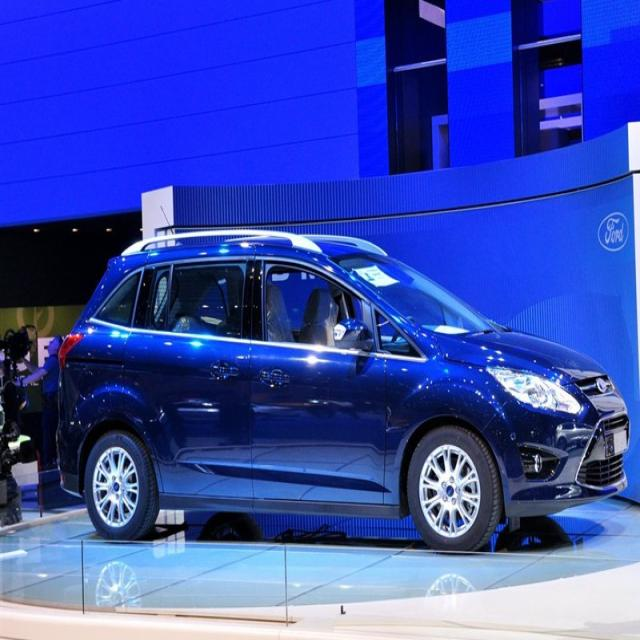back_right_side_light: (58, 330, 84, 372)
door: (122, 254, 258, 510)
front_bumper: (487, 389, 631, 524)
front_glass: (329, 248, 498, 338)
front_right_side_door: (248, 246, 392, 514)
front_right_side_light: (485, 361, 584, 421)
front_right_side_mirror: (329, 312, 374, 358)
wheel: (409, 423, 498, 551), (84, 433, 156, 542)
